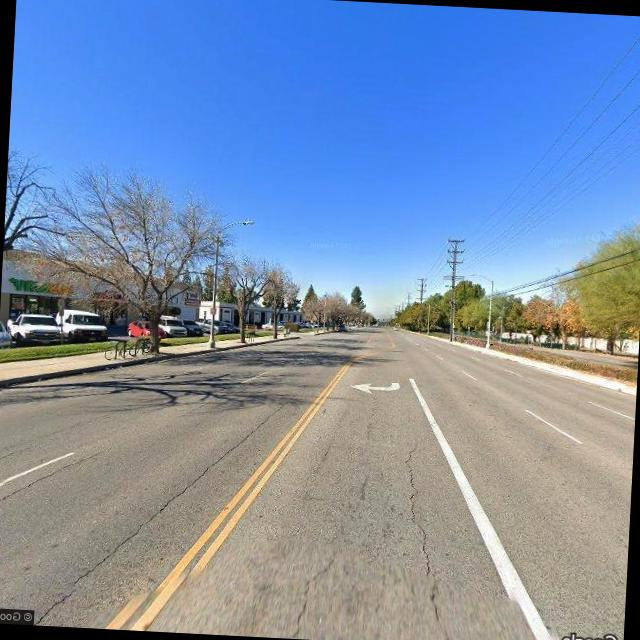pothole: (38, 374, 296, 638), (393, 437, 466, 640), (0, 441, 111, 527), (281, 547, 341, 640)
